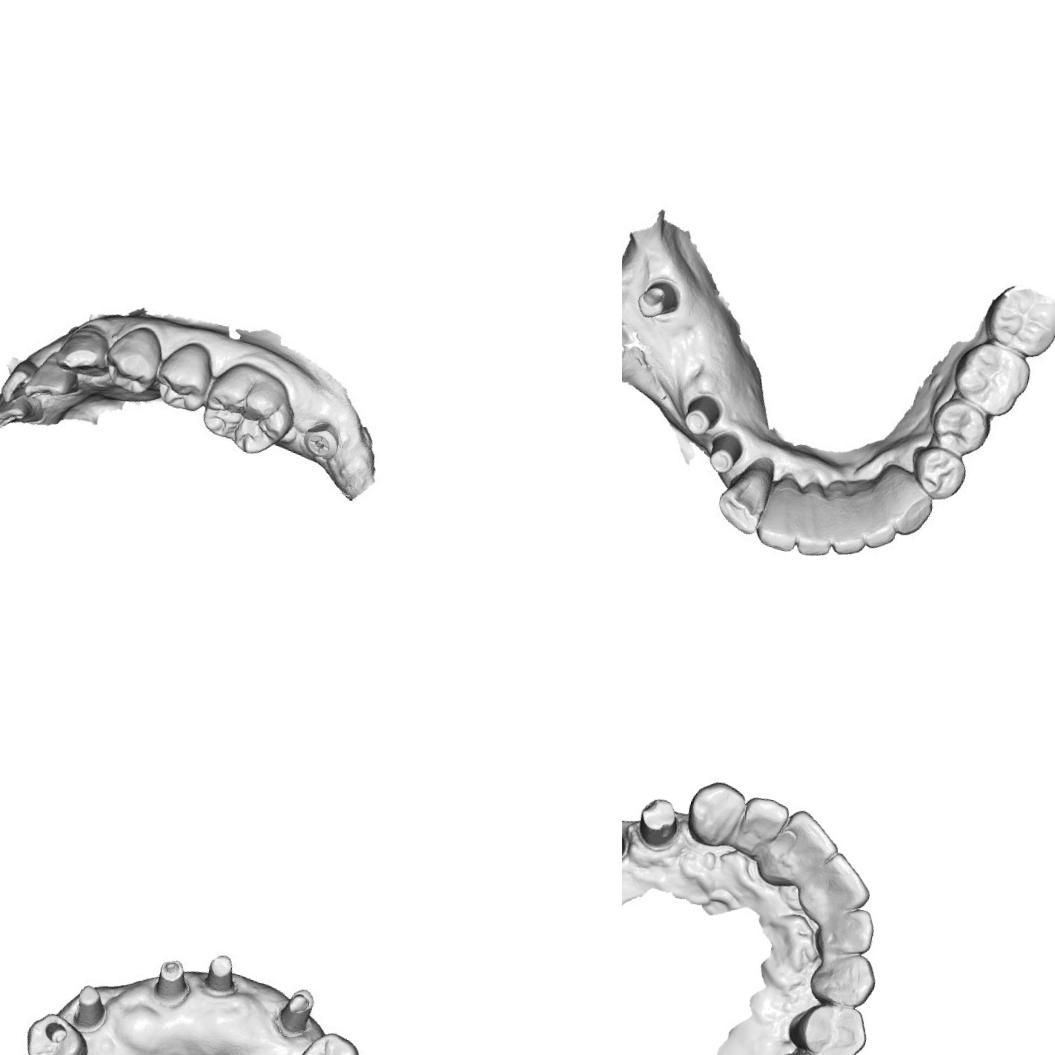abutment: (630, 793, 686, 854), (630, 272, 688, 330), (702, 420, 751, 483), (678, 387, 732, 444), (270, 982, 323, 1038), (66, 978, 116, 1036), (148, 953, 195, 1010), (198, 945, 240, 1002), (622, 816, 634, 869)
canine: (709, 450, 778, 538), (870, 460, 944, 542), (680, 774, 750, 854), (805, 945, 882, 1014), (53, 319, 111, 379)
implant_plus: (296, 414, 348, 470)
incisor: (766, 803, 848, 891), (801, 846, 878, 925), (840, 474, 904, 548), (818, 476, 876, 556), (754, 474, 812, 552), (814, 900, 880, 964), (732, 790, 791, 858), (791, 483, 843, 558), (27, 353, 81, 409), (0, 355, 34, 410)
molar: (197, 360, 297, 460), (952, 335, 1037, 422), (978, 275, 1055, 360)
premolar: (783, 996, 873, 1055), (150, 345, 215, 420), (926, 395, 998, 460), (104, 316, 163, 390), (21, 1006, 95, 1055), (912, 444, 970, 499), (290, 1025, 367, 1055)
